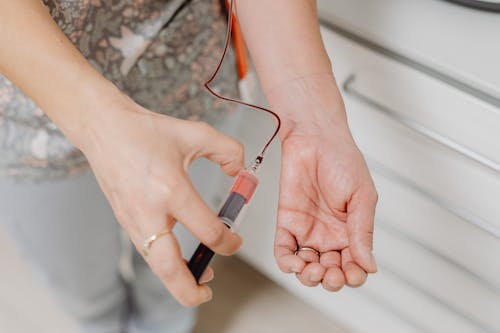blood: (202, 0, 282, 165), (185, 188, 247, 286)
